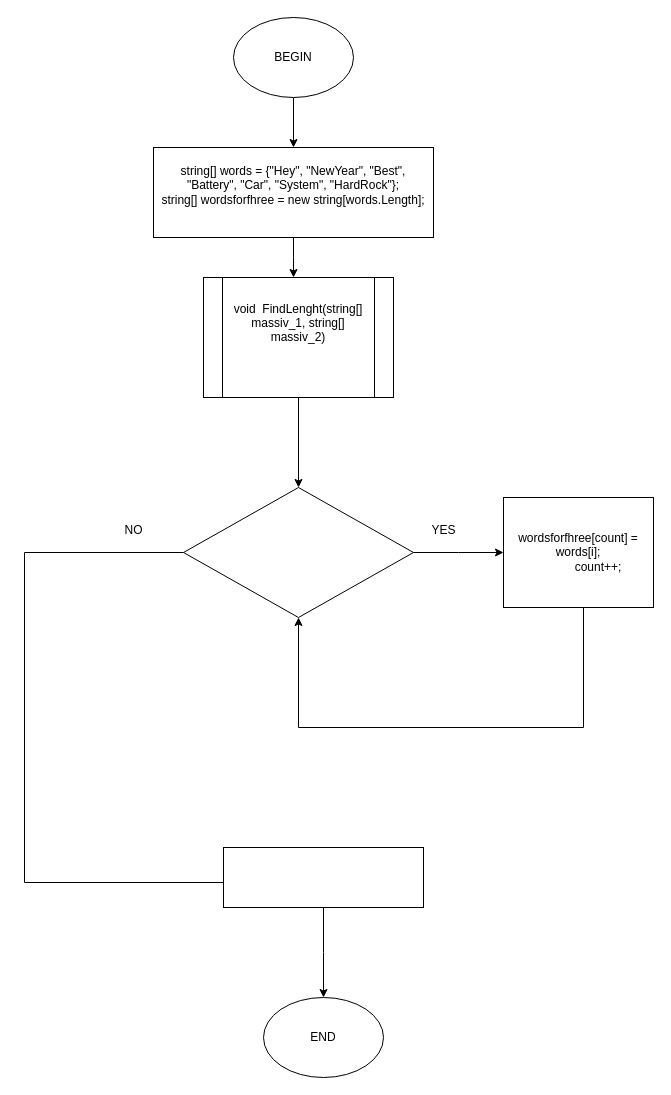
Some shapes in this 671 by 1095 pixel diagram are drawn without their labels. Each missing label, with the box of its shape:
Console.WriteLine(string.Join(" ", wordsforfhree));: (222, 846, 424, 908)
int count = 0; for(int i = 0; i < words.Length; i++) (words[i].Length <= 3): (182, 486, 414, 618)
